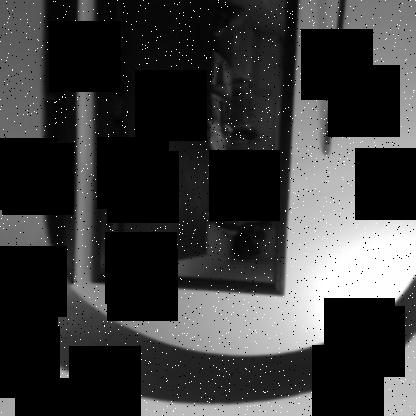Porte: (89, 1, 298, 297)
